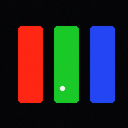0 point: (60, 86, 64, 90)
